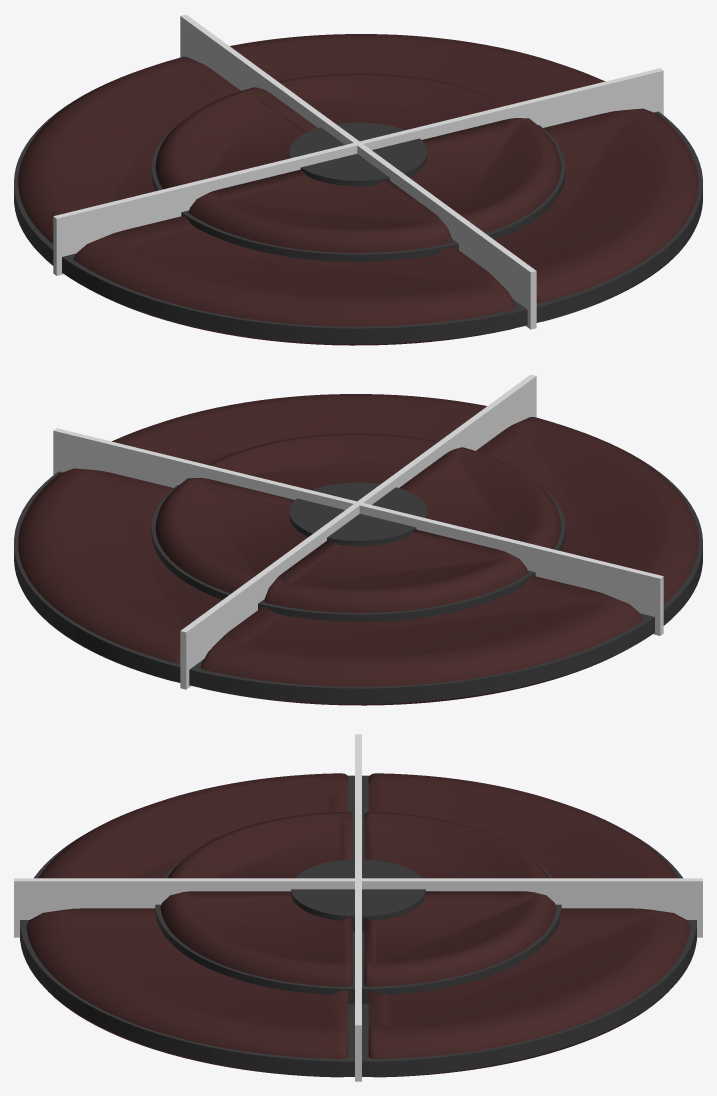
Rendered from plate_2_4th.fbx.
3 views of the same model, one above another, from view 1: azimuth 30°, elevation 25°; view 2: azimuth 150°, elevation 25°; view 3: azimuth 270°, elevation 25° (orthographic).
Parts seen in each view (by area): view 1: Cylinder.009, Cylinder.010, Cylinder.008, Cylinder.005, Cylinder.007, Cylinder, Cylinder.006, Cylinder.004, Cylinder.003, Cube.001, Cube.003, Cube.002 (+3 smaller); view 2: Cylinder.008, Cylinder.007, Cylinder.009, Cylinder.004, Cylinder.010, Cylinder, Cylinder.003, Cylinder.005, Cylinder.006, Cube.001, Cube.003, Cube (+3 smaller); view 3: Cylinder.010, Cylinder.007, Cylinder.009, Cylinder.008, Cylinder, Cylinder.006, Cylinder.003, Cylinder.004, Cylinder.005, Cube, Cube.002, Cylinder.002 (+3 smaller).
Part boxes in pixels (x1,y1,x2,y2): Cylinder.009: (73,215,515,345); Cylinder.010: (494,108,698,321); Cylinder.008: (18,56,240,243); Cylinder.005: (188,169,452,252); Cylinder.007: (230,34,604,104); Cylinder: (14,80,702,343); Cylinder.006: (409,118,561,233); Cylinder.004: (155,87,317,189); Cylinder.003: (278,73,508,130); Cube.001: (53,143,357,275); Cube.003: (360,68,663,149); Cube.002: (356,142,536,329); Cylinder.008: (201,575,642,705); Cylinder.007: (18,468,221,681); Cylinder.009: (476,417,698,603); Cylinder.004: (264,529,527,612); Cylinder.010: (112,394,486,464); Cylinder: (14,440,702,703); Cylinder.003: (155,478,307,593); Cylinder.005: (399,447,561,549); Cylinder.006: (208,433,438,490); Cube.001: (359,502,663,635); Cube.003: (53,428,356,509); Cube: (180,502,360,689); Cylinder.010: (26,908,348,1077); Cylinder.007: (368,908,690,1077); Cylinder.009: (38,773,348,878); Cylinder.008: (368,773,678,878); Cylinder: (20,775,696,1076); Cylinder.006: (160,891,352,986); Cylinder.003: (364,891,556,986); Cylinder.004: (364,812,549,878); Cylinder.005: (167,812,352,878); Cube: (358,878,702,937); Cube.002: (14,878,358,937); Cylinder.002: (291,859,425,931).
Bounding box in the file's own units: 407 × 36.67 × 407.
